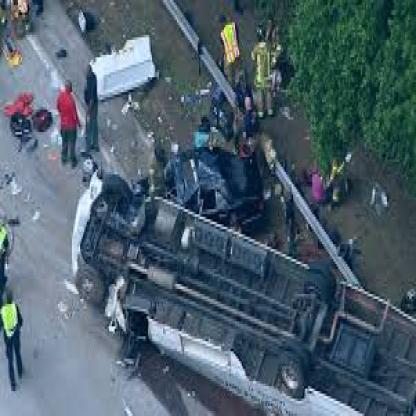accident: (66, 139, 416, 415)
